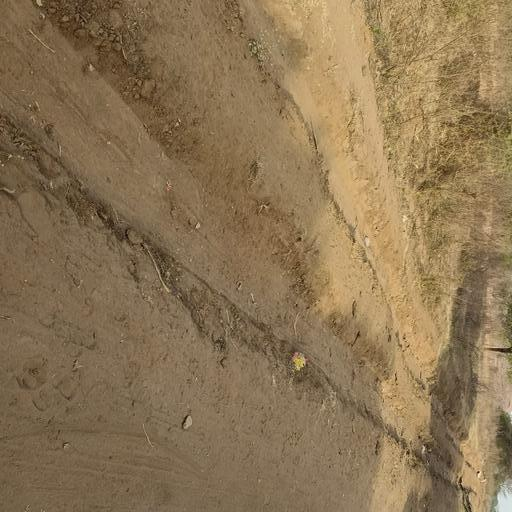vehicle_track: (0, 0, 454, 480), (233, 0, 424, 381)
